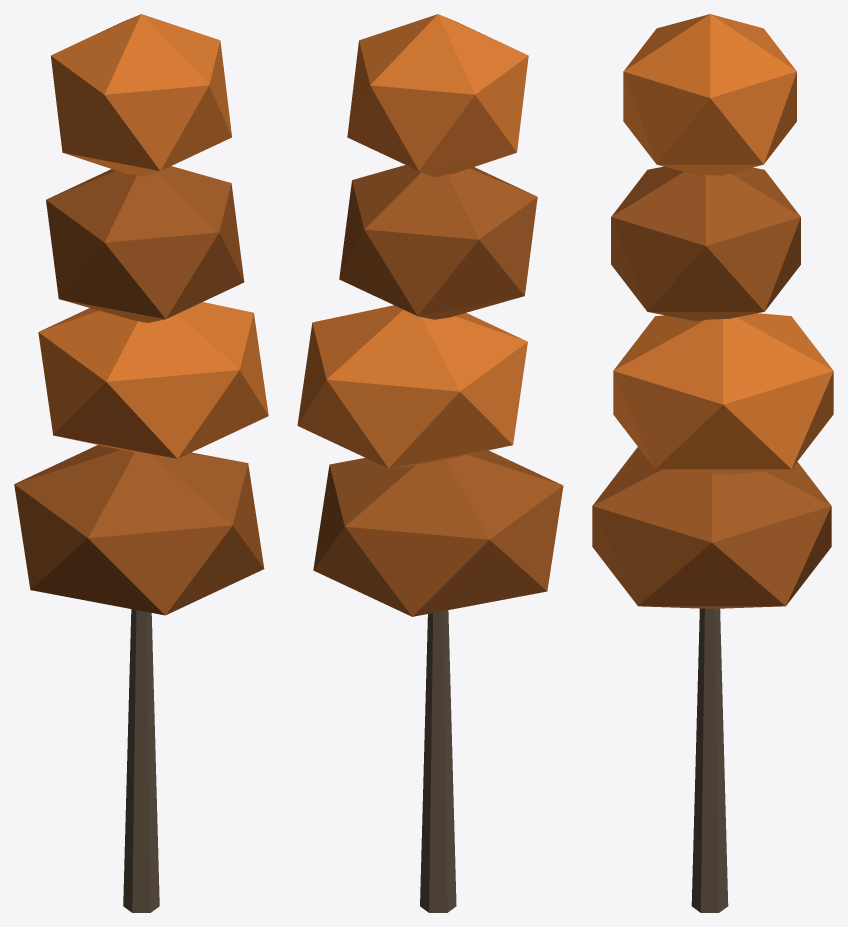
Rendered from columnar-v0-autumn.glb.
The picture shows the model from 3 angles, left to right: view 1: azimuth 30°, elevation 25°; view 2: azimuth 150°, elevation 25°; view 3: azimuth 270°, elevation 25°; orthographic projection.
Parts seen in each view (by area): view 1: columnar_v0; view 2: columnar_v0; view 3: columnar_v0.
Part boxes in pixels (x1,y1,x2,y2): columnar_v0: [14, 14, 268, 912]; columnar_v0: [297, 14, 563, 912]; columnar_v0: [592, 14, 833, 912].
Size of what is drawn, in the model's own units: 3.48 by 12.93 by 3.17.
